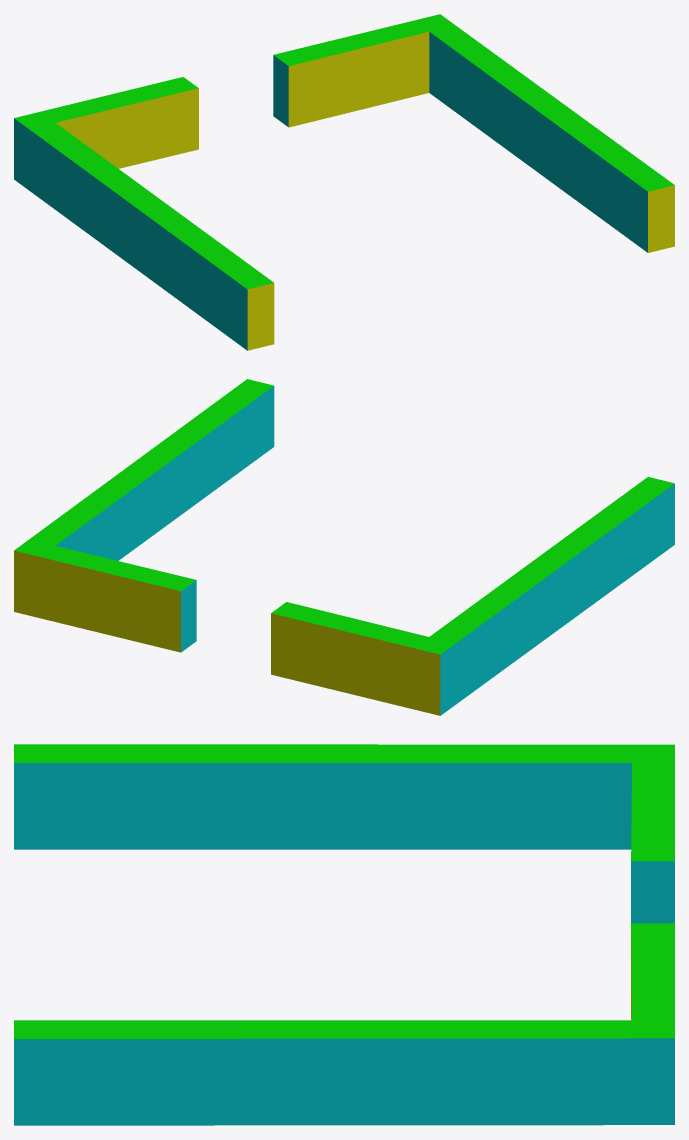
Rendered from SM_Fence.fbx.
3 views of the same model, one above another, from view 1: azimuth 30°, elevation 25°; view 2: azimuth 150°, elevation 25°; view 3: azimuth 270°, elevation 25° (orthographic). The views are drawn at different scales.
Parts seen in each view (by area): view 1: Hedge1; view 2: Hedge1; view 3: Hedge1.
Part boxes in pixels (box(x1,y1,x2,y2)): Hedge1: box(14, 14, 674, 350); Hedge1: box(14, 379, 674, 715); Hedge1: box(14, 744, 674, 1125).
Bounding box in the file's own units: 2314 × 317 × 2193.
